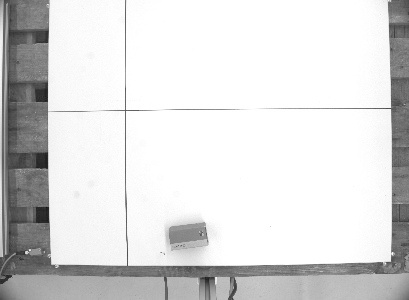b3: (166, 219, 211, 251)
